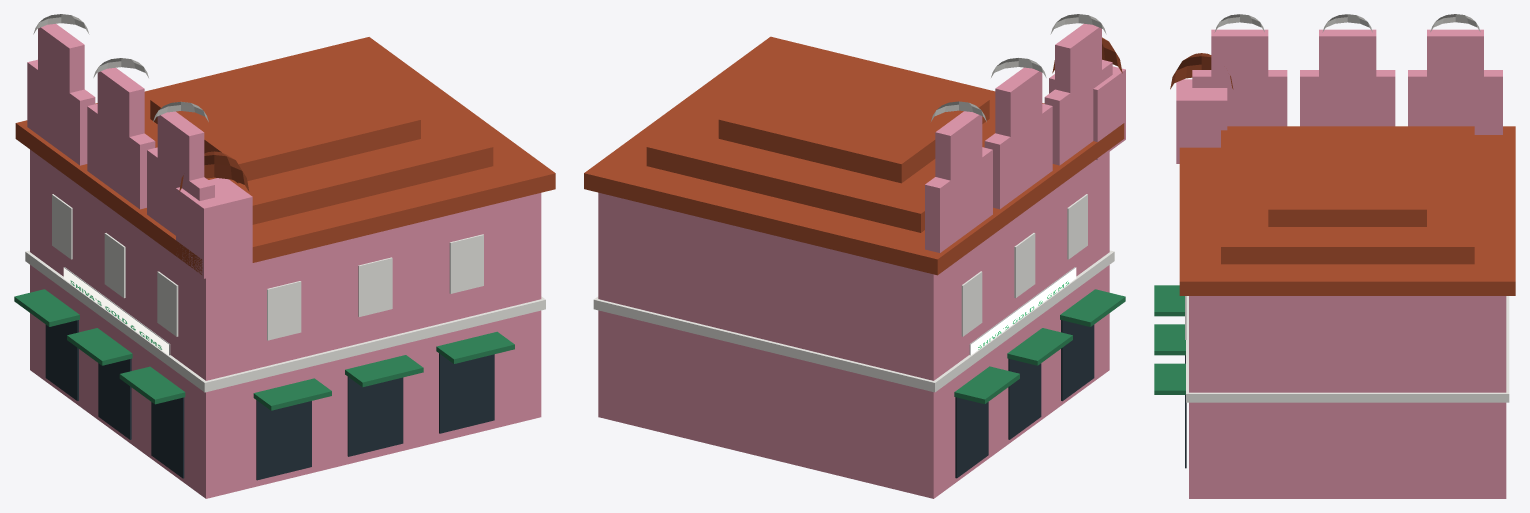
The model's file is shivas_pink.glb.
3 renders of one model, left to right at view 1: azimuth 30°, elevation 25°; view 2: azimuth 150°, elevation 25°; view 3: azimuth 270°, elevation 25°, orthographic. The views are drawn at different scales.
Visible parts, largest first — view 1: shivas_pink_lod0; view 2: shivas_pink_lod0; view 3: shivas_pink_lod0.
Part boxes in pixels (x1,y1,x2,y2): shivas_pink_lod0: (14,14,555,498); shivas_pink_lod0: (584,14,1125,498); shivas_pink_lod0: (1154,14,1515,498).
Size of what is drawn, in the model's own units: 12.4 by 11.69 by 11.4.
8 materials, 1 textured.
